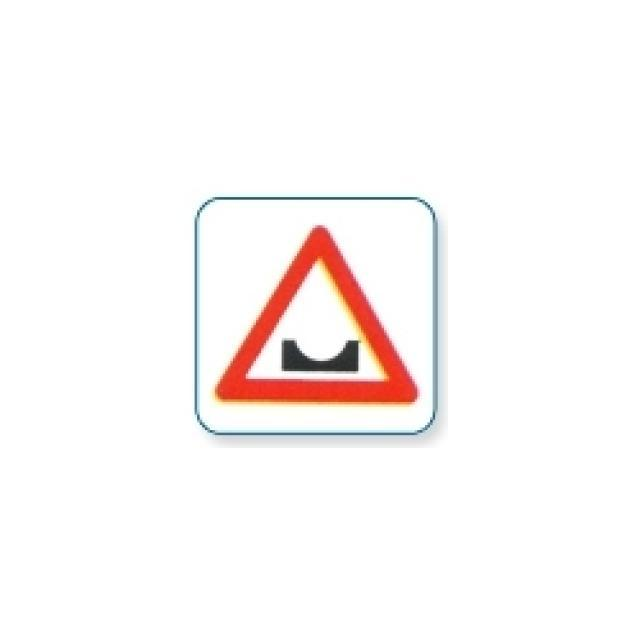dangerous dip: (208, 213, 423, 418)
